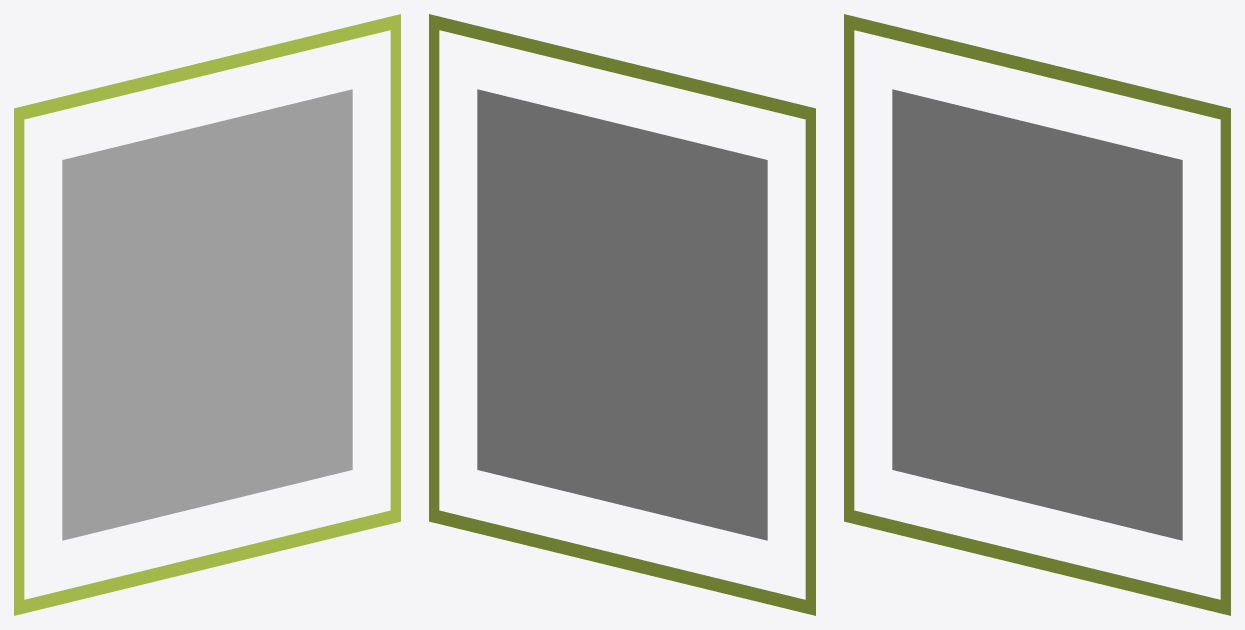
The model's file is shield_test_base.gltf.
The picture shows the model from 3 angles, left to right: view 1: azimuth 30°, elevation 25°; view 2: azimuth 150°, elevation 25°; view 3: azimuth 330°, elevation 25°; orthographic projection.
Parts seen in each view (by area): view 1: Plane.002; view 2: Plane.002; view 3: Plane.002.
Boxes of the visible parts, x1,y1,x2,y2 form: Plane.002: [14, 14, 400, 615]; Plane.002: [429, 14, 815, 615]; Plane.002: [844, 14, 1230, 615].
Size of the model in its own units: 0.2882 by 0.3611 by 4.47e-09.
